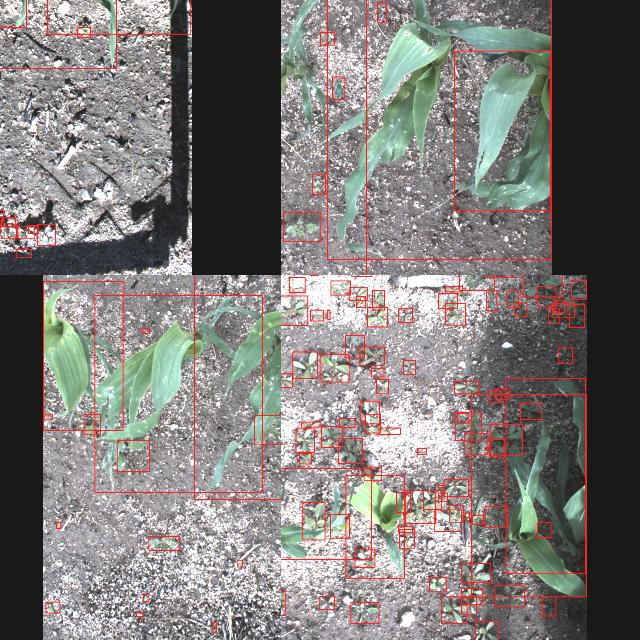crop: (326, 0, 551, 258), (94, 294, 262, 492), (470, 394, 586, 596), (281, 0, 366, 275), (194, 275, 281, 499), (505, 378, 585, 572), (454, 50, 550, 210), (42, 280, 122, 430), (281, 467, 370, 558), (344, 474, 404, 578), (47, 0, 191, 33), (434, 509, 461, 531)
weed: (282, 211, 320, 241), (116, 440, 148, 470), (405, 490, 435, 522), (490, 424, 522, 454), (302, 502, 324, 540), (522, 275, 561, 296), (320, 353, 348, 381), (254, 414, 281, 443), (281, 295, 306, 325), (455, 412, 481, 440), (494, 584, 524, 606), (442, 596, 466, 622), (292, 351, 316, 377), (462, 562, 491, 582), (338, 438, 362, 462), (350, 602, 378, 622), (464, 432, 488, 454), (458, 275, 493, 289), (484, 506, 508, 526), (344, 334, 364, 358), (294, 428, 314, 452), (358, 346, 384, 364), (474, 620, 497, 640), (329, 513, 348, 537), (445, 302, 465, 324), (359, 401, 378, 424), (444, 478, 468, 496), (148, 536, 178, 550), (321, 426, 342, 446), (536, 286, 556, 306), (367, 306, 387, 326), (422, 489, 442, 508), (37, 223, 55, 244), (354, 548, 374, 566), (83, 414, 99, 434), (462, 588, 482, 604), (520, 402, 540, 418), (398, 528, 414, 548), (454, 381, 478, 394), (552, 303, 574, 317), (570, 304, 584, 326), (438, 292, 457, 308), (332, 76, 344, 100), (460, 596, 476, 614), (488, 438, 504, 456), (364, 414, 380, 432), (311, 174, 325, 194), (542, 596, 556, 616), (396, 492, 410, 512), (330, 280, 350, 294), (288, 276, 304, 292), (428, 577, 446, 591), (449, 504, 463, 522), (363, 466, 381, 480), (572, 280, 586, 298), (348, 286, 366, 300), (372, 290, 384, 310), (0, 223, 16, 237), (318, 595, 334, 609), (537, 521, 551, 537), (558, 347, 572, 363), (16, 226, 34, 238), (376, 2, 386, 22), (486, 290, 496, 310), (398, 308, 412, 322), (506, 290, 518, 306), (376, 378, 388, 394), (319, 32, 333, 44), (514, 302, 526, 316), (403, 359, 415, 373), (378, 426, 399, 434), (338, 417, 354, 427), (495, 388, 509, 399), (281, 373, 292, 387), (76, 27, 90, 37), (45, 602, 59, 612), (548, 308, 558, 322), (1, 217, 16, 226), (299, 452, 311, 463), (15, 248, 30, 256), (490, 390, 500, 402), (554, 299, 564, 311), (310, 310, 322, 320), (472, 514, 483, 524), (371, 367, 384, 375), (458, 412, 468, 422), (355, 296, 365, 306), (438, 492, 447, 502), (398, 526, 412, 532), (28, 225, 38, 233), (300, 422, 320, 426), (444, 286, 462, 290), (416, 448, 426, 454), (142, 593, 148, 601), (212, 622, 216, 632), (42, 414, 52, 418), (236, 560, 242, 566), (0, 209, 3, 220), (465, 512, 469, 520), (142, 328, 148, 332), (136, 612, 142, 616), (56, 522, 60, 528), (327, 310, 329, 318), (438, 484, 442, 486)
